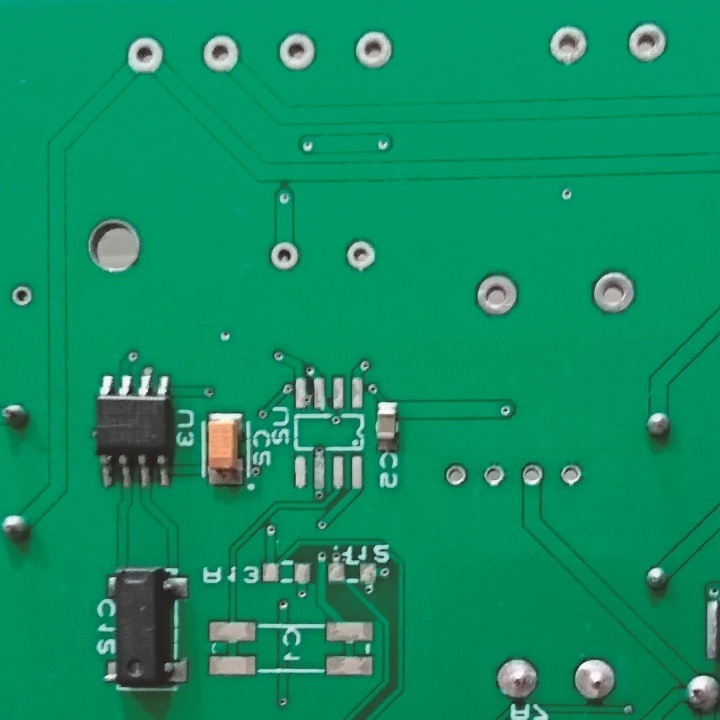F: (469, 269, 521, 318), (588, 266, 636, 316), (623, 19, 670, 67), (493, 655, 541, 700), (570, 657, 620, 700), (547, 23, 591, 71), (122, 35, 167, 79), (275, 30, 319, 73), (199, 31, 240, 76), (350, 30, 396, 70), (342, 235, 376, 272), (267, 238, 300, 272), (519, 460, 546, 490), (8, 283, 36, 311), (556, 461, 582, 490), (481, 460, 504, 491), (444, 463, 468, 489)
